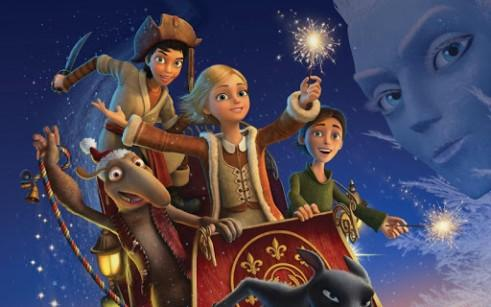person: (116, 66, 328, 232), (73, 18, 198, 179), (292, 104, 410, 242)
